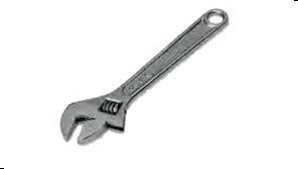Wrench: (54, 8, 235, 151)
